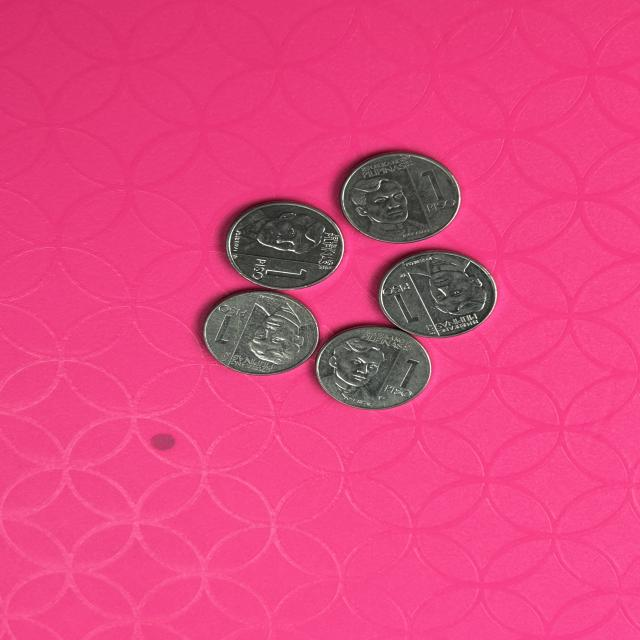1_New_Front: (403, 160, 455, 218), (404, 167, 453, 220), (378, 280, 427, 330), (244, 252, 309, 288), (248, 254, 309, 290), (382, 280, 422, 333), (212, 294, 246, 348), (212, 298, 246, 348), (388, 351, 419, 404), (386, 349, 418, 399)
